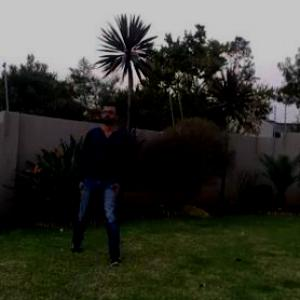follow: (74, 94, 132, 268)
